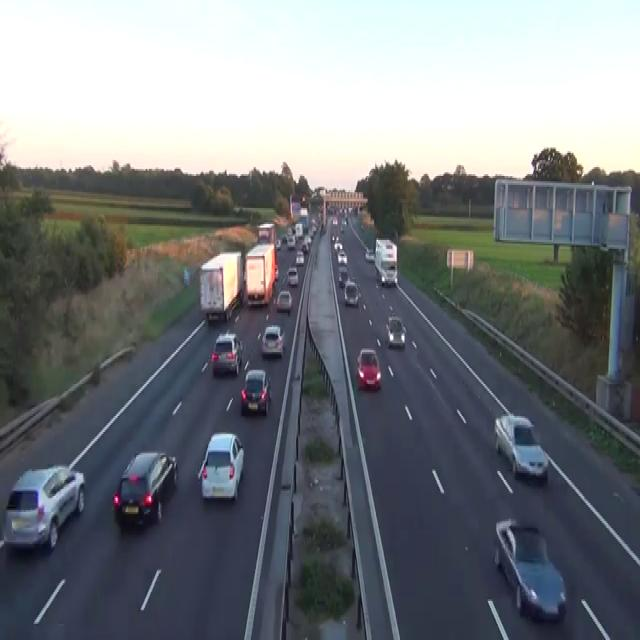Car: (494, 518, 567, 622), (4, 464, 85, 551), (112, 450, 178, 526), (494, 412, 548, 482), (197, 432, 244, 501), (240, 368, 271, 416), (211, 331, 242, 375), (356, 348, 381, 389), (261, 323, 285, 358), (385, 314, 406, 348), (224, 330, 243, 356), (379, 263, 397, 286), (344, 281, 360, 306), (276, 290, 292, 311), (287, 267, 298, 286), (337, 267, 348, 286), (295, 249, 304, 265), (337, 251, 347, 265), (365, 247, 374, 261), (183, 266, 190, 284), (281, 270, 289, 284), (287, 235, 295, 247), (320, 222, 326, 235), (275, 263, 279, 281), (331, 234, 339, 243), (310, 224, 316, 236), (233, 204, 241, 213), (446, 182, 455, 190), (305, 235, 312, 245), (301, 242, 308, 252), (280, 233, 287, 243), (275, 238, 281, 249), (334, 242, 342, 250), (340, 221, 345, 231), (332, 215, 337, 224), (311, 217, 316, 226), (331, 234, 335, 243)
Truck: (199, 249, 243, 322), (244, 242, 275, 306), (256, 222, 278, 281), (374, 236, 397, 286)
